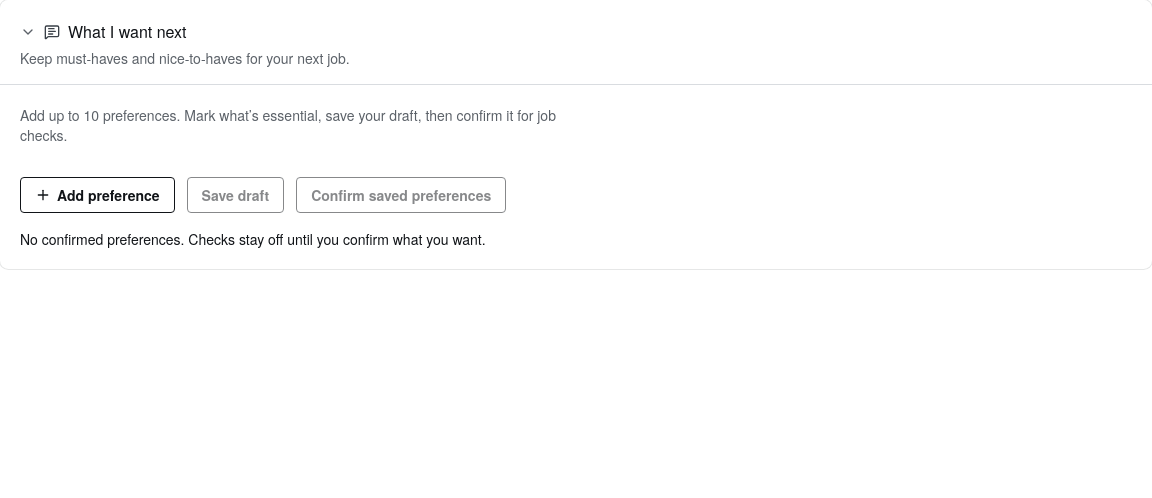
preserves unsaved edits on a stale-save error and allows explicit reload
Click the button "Add preference" at (97, 195), box [20, 177, 175, 213]
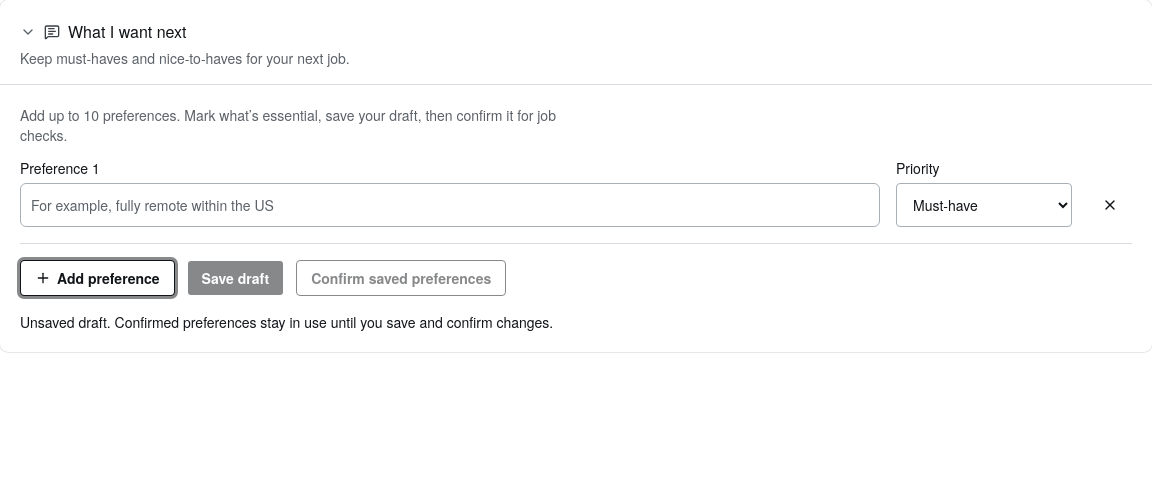
Type "My edit" into the field labelled "Preference 1" at (450, 205), box [20, 183, 880, 227]
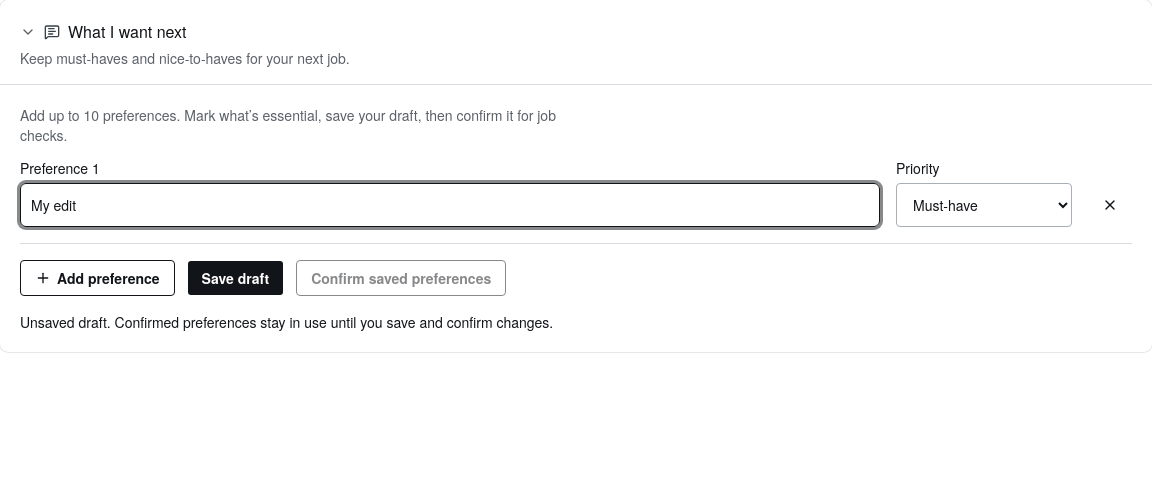
Click the button "Save draft" at (235, 278), box [187, 260, 284, 296]
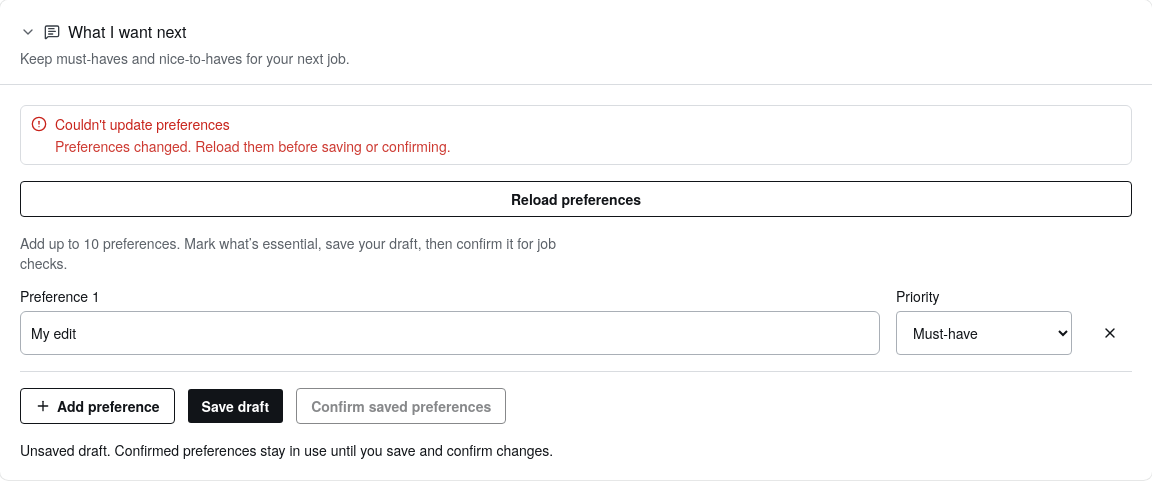
Check: the text "Preferences changed. Reload them before saving or confirming." is shown, box [55, 136, 451, 156]
Click the button "Reload preferences" at (576, 199), box [20, 181, 1132, 217]
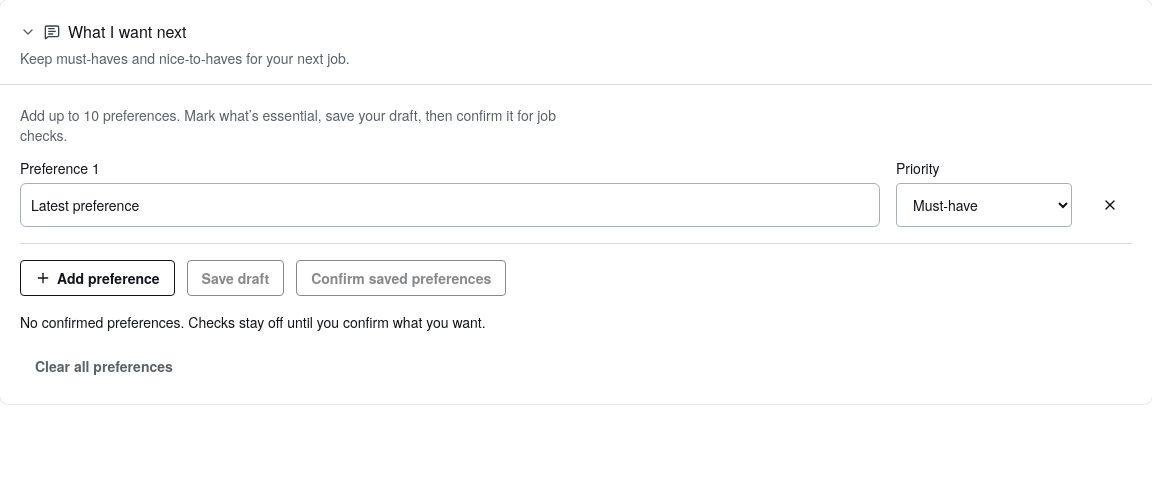
Check: the field showing "Latest preference" is shown, box [20, 183, 880, 227]
